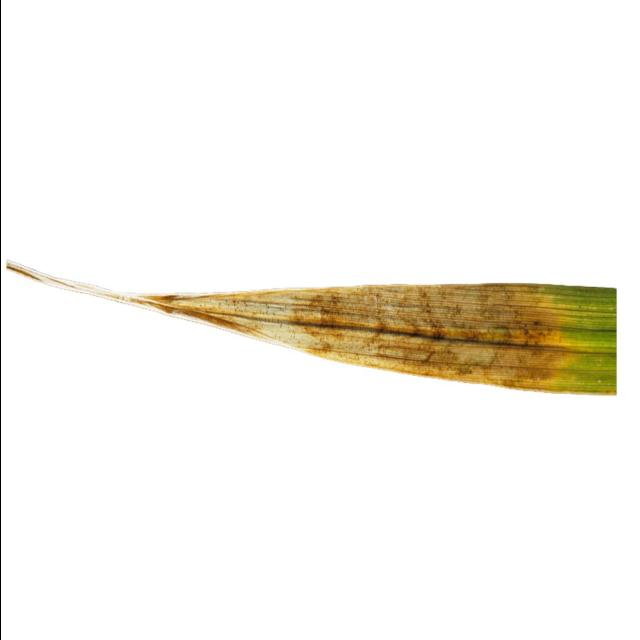Leaf scald: (0, 204, 640, 442)
